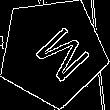M_SW: (19, 17, 87, 86)
